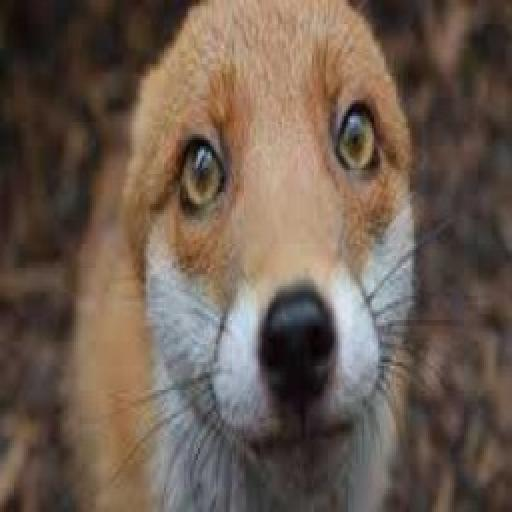zorro: (68, 0, 418, 510)
